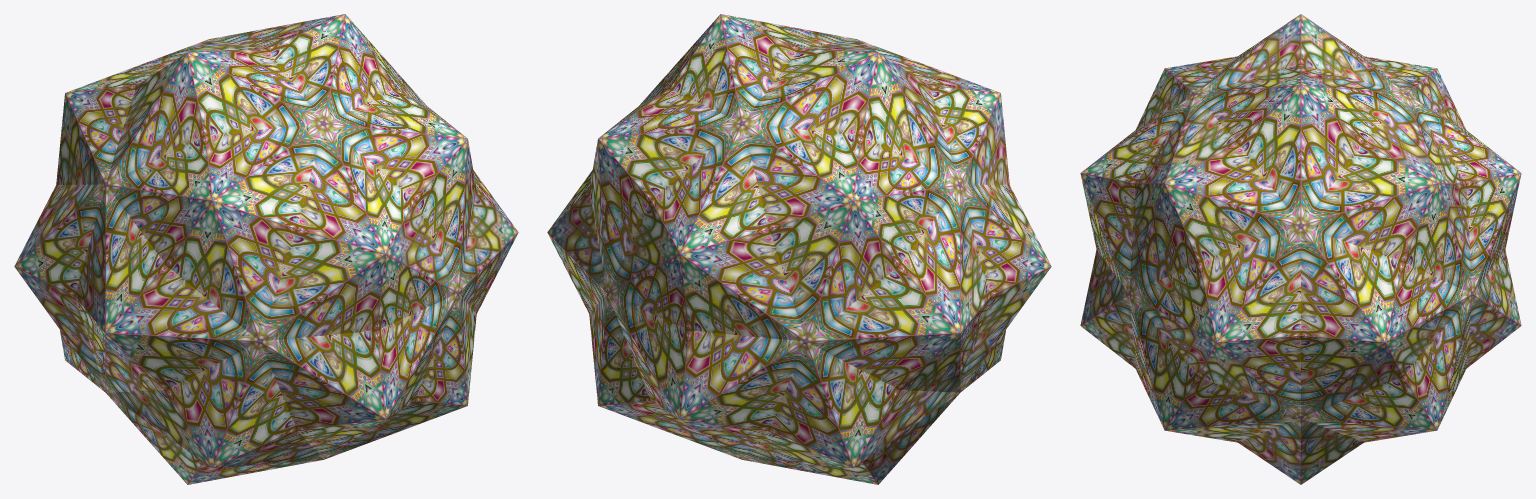
File: 6SmallIcosacronicHexecontahedron.obj
3 views of the same model, side by side, from view 1: azimuth 30°, elevation 25°; view 2: azimuth 150°, elevation 25°; view 3: azimuth 270°, elevation 25° (orthographic). The views are drawn at different scales.
Bounding box in the file's own units: 3.62 × 3.62 × 3.62.
Materials: 1 (1 with a texture image).
